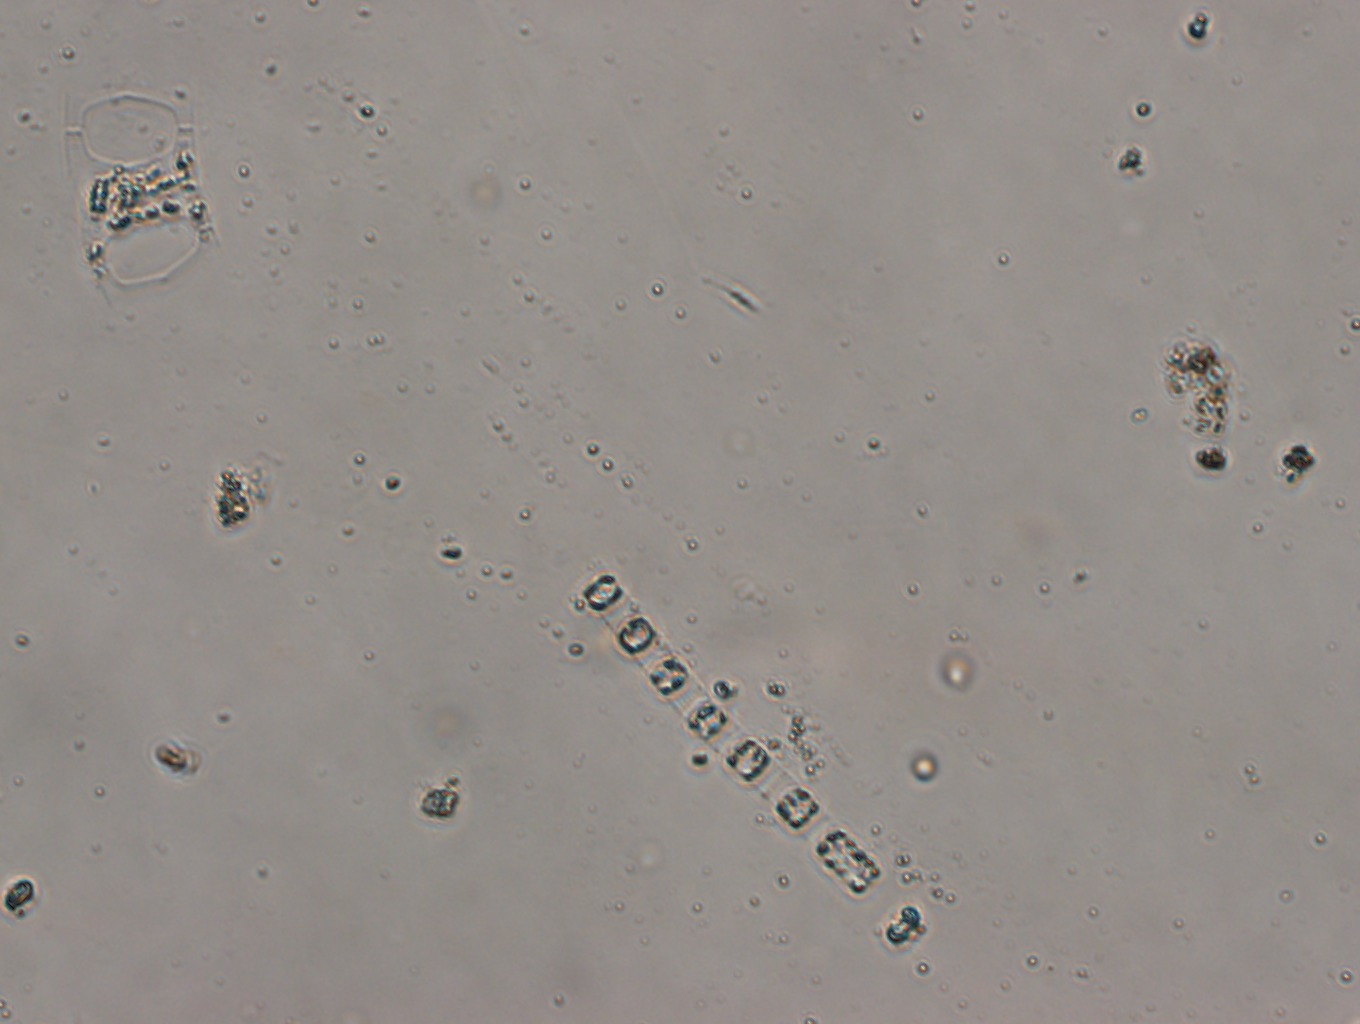eucampia: (61, 81, 221, 313)
skeletonema: (570, 553, 931, 961)
